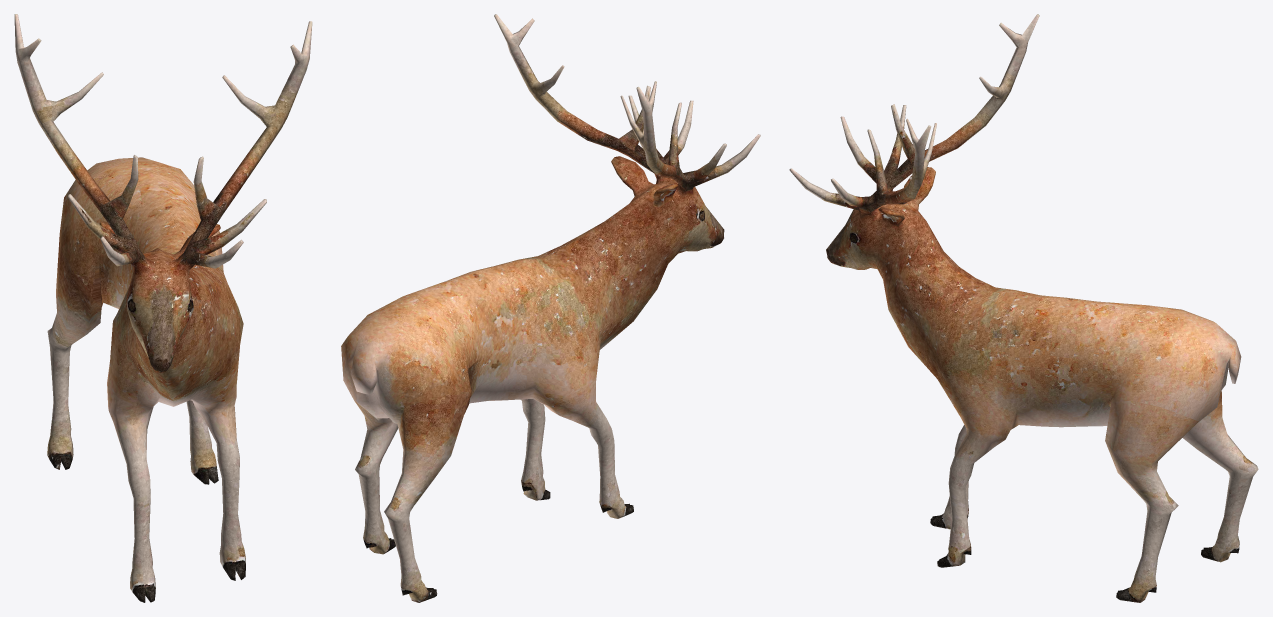
File: deer.gltf
3 renders of one model, left to right at view 1: azimuth 30°, elevation 25°; view 2: azimuth 150°, elevation 25°; view 3: azimuth 270°, elevation 25°, orthographic. The views are drawn at different scales.
Visible parts, largest first — view 1: 动物_梅花鹿; view 2: 动物_梅花鹿; view 3: 动物_梅花鹿.
Part boxes in pixels (x1,y1,x2,y2): 动物_梅花鹿: (14,14,312,602); 动物_梅花鹿: (341,14,760,602); 动物_梅花鹿: (789,14,1258,602).
Size of the model in its own units: 1.26 by 2.31 by 2.04.
1 material, 1 textured.
